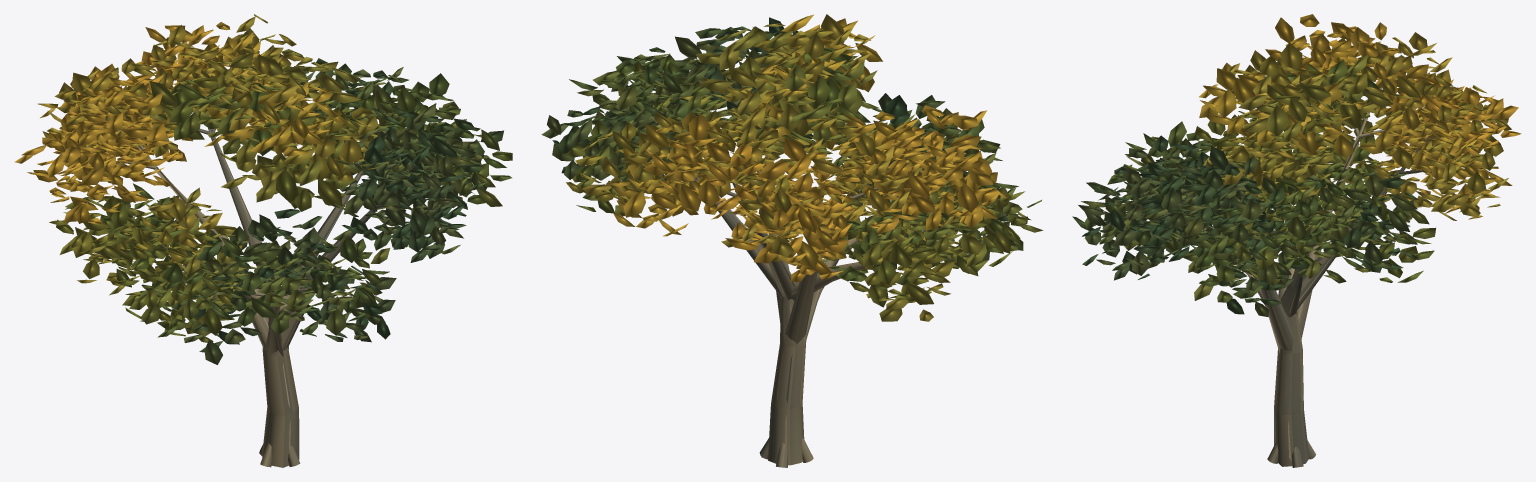
Rendered from HK_Tree_Round.glb.
3 views of the same model, side by side, from view 1: azimuth 30°, elevation 25°; view 2: azimuth 150°, elevation 25°; view 3: azimuth 270°, elevation 25° (orthographic). The views are drawn at different scales.
Visible parts, largest first — view 1: HK_Tree_Round; view 2: HK_Tree_Round; view 3: HK_Tree_Round.
Boxes of the visible parts, <box> form: HK_Tree_Round: <box>14,14,512,467</box>; HK_Tree_Round: <box>541,14,1043,467</box>; HK_Tree_Round: <box>1072,14,1521,467</box>.
Size of the model in its own units: 7.96 by 7.14 by 7.45.
